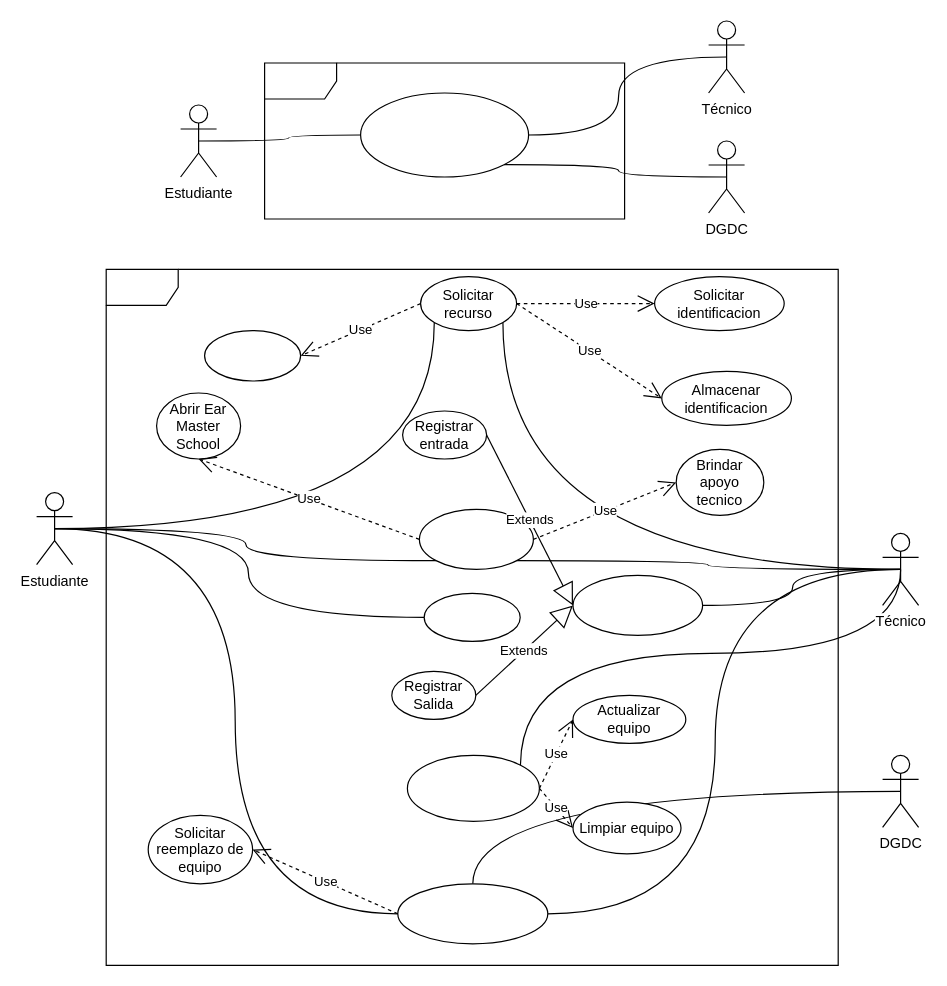
Some shapes in this 947 by 986 pixel diagram are drawn without their labels. Each missing label, with the box of its shape:
Cerrar sesión: (423, 592, 520, 641)
Dar mantenimiento a equipo: (406, 754, 539, 821)
Entrenar oido: (359, 92, 529, 177)
identificarse: (203, 329, 301, 381)
Reemplazar equipo inservible: (397, 883, 548, 944)
Registrar usos del equipo: (572, 574, 703, 635)
Usar correctamente equipo: (418, 508, 533, 569)
